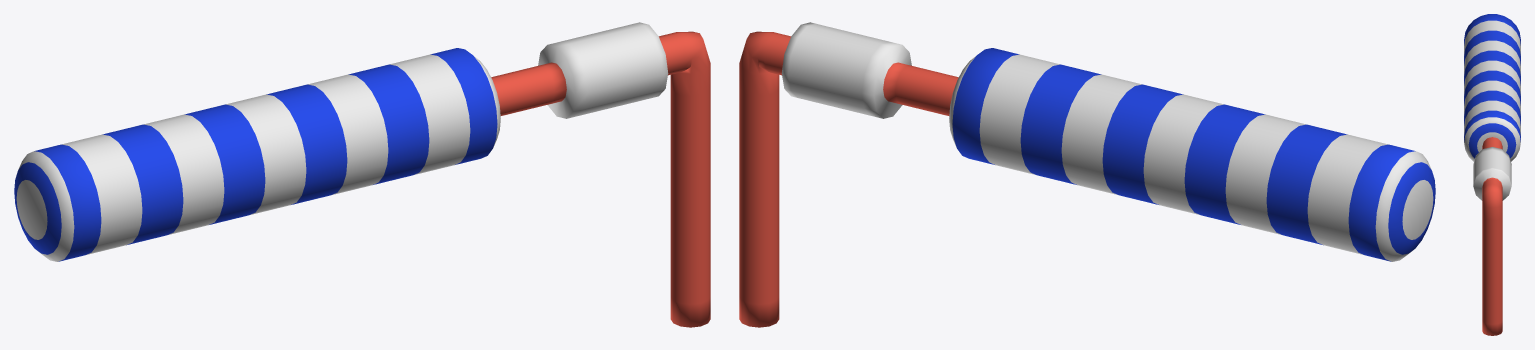
File: underprop.fbx
The picture shows the model from 3 angles, left to right: view 1: azimuth 30°, elevation 25°; view 2: azimuth 150°, elevation 25°; view 3: azimuth 270°, elevation 25°; orthographic projection. The views are drawn at different scales.
Parts seen in each view (by area): view 1: NurbsPath.002, NurbsPath.001; view 2: NurbsPath.002, NurbsPath.001; view 3: NurbsPath.002, NurbsPath.001.
Part boxes in pixels (x1,y1,x2,y2): NurbsPath.002: [14, 48, 500, 261]; NurbsPath.001: [491, 22, 710, 327]; NurbsPath.002: [949, 48, 1435, 261]; NurbsPath.001: [739, 22, 958, 327]; NurbsPath.002: [1464, 14, 1520, 161]; NurbsPath.001: [1473, 137, 1511, 335].
Size of the model in its own units: 389 by 176 by 56.6.
